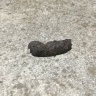Dog: (27, 38, 73, 58)
